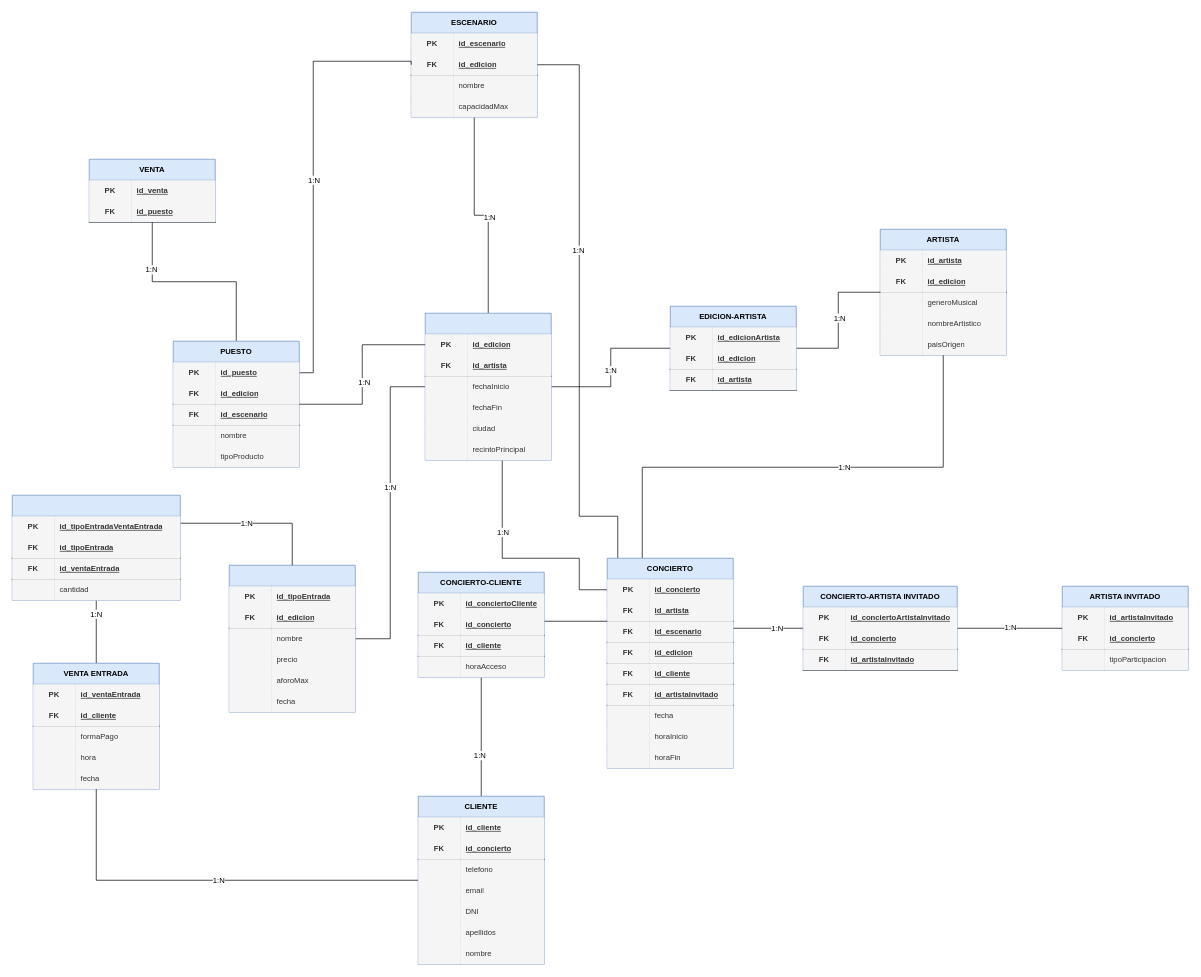
This 1201x977 diagram has some shape labels left out. The box of each missing label's shape, as (x1, y1, x2, y2) in pixels:
EDICIÓN: (425, 313, 551, 460)
TIPO DE ENTRADA: (229, 565, 355, 712)
TIPO DE ENTRADA-VENTA ENTRADA: (12, 495, 180, 600)
